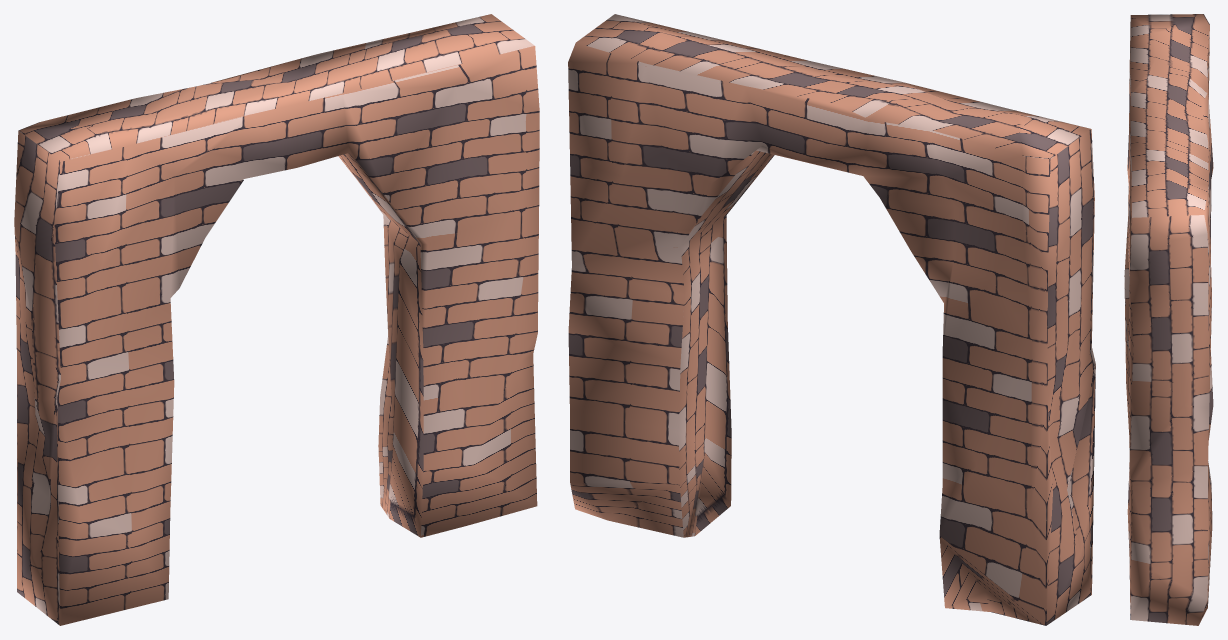
File: Arch.fbx
3 renders of one model, left to right at view 1: azimuth 30°, elevation 25°; view 2: azimuth 150°, elevation 25°; view 3: azimuth 270°, elevation 25°, orthographic. The views are drawn at different scales.
Parts seen in each view (by area): view 1: Arch; view 2: Arch; view 3: Arch.
Boxes of the visible parts, bbox=[...] form: Arch: bbox=[14, 14, 539, 625]; Arch: bbox=[568, 14, 1095, 625]; Arch: bbox=[1124, 14, 1213, 625].
Bounding box in the file's own units: 92.34 × 85.96 × 16.4.
Materials: 1 (1 with a texture image).
